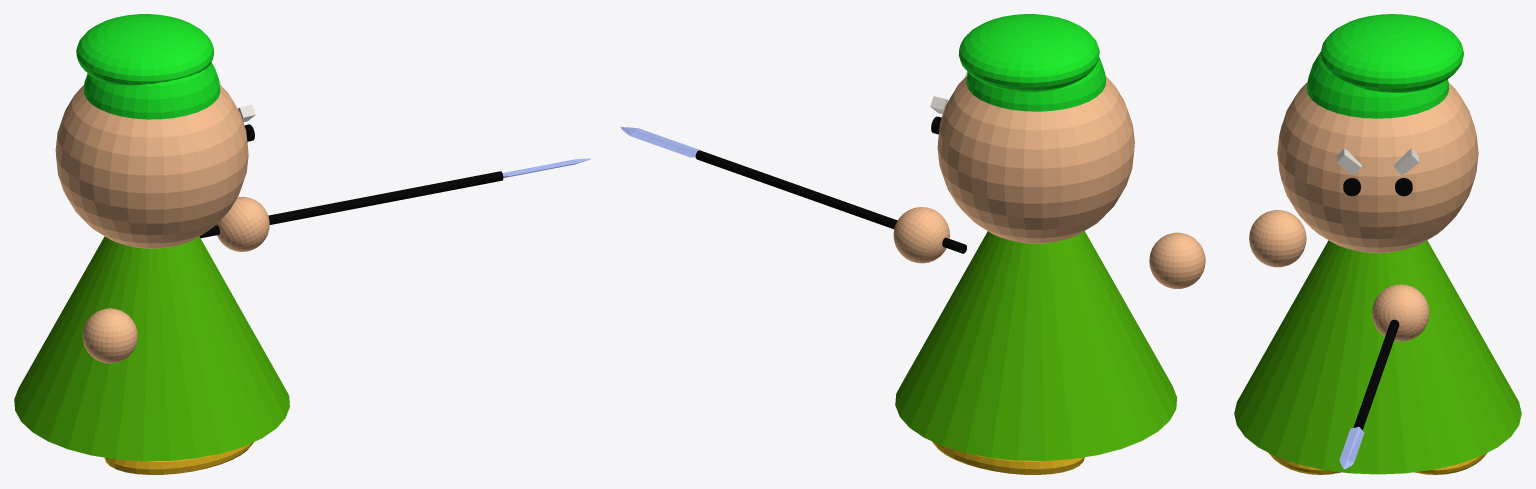
File: yarigrandfather.fbx
3 renders of one model, left to right at view 1: azimuth 30°, elevation 25°; view 2: azimuth 150°, elevation 25°; view 3: azimuth 270°, elevation 25°, orthographic. The views are drawn at different scales.
Visible parts, largest first — view 1: 円錐.017, 円柱, 円錐.007, 円錐.012, 円錐.011; view 2: 円錐.017, 円柱, 円錐.007, 円錐.012, 円錐.010; view 3: 円錐.017, 円錐.007, 円錐.012, 円柱, 円錐.010, 円錐.011.
Part boxes in pixels (bbox=[...]): 円錐.017: bbox=[14, 14, 289, 461]; 円柱: bbox=[199, 158, 591, 238]; 円錐.007: bbox=[82, 308, 137, 363]; 円錐.012: bbox=[215, 196, 269, 251]; 円錐.011: bbox=[104, 442, 253, 474]; 円錐.017: bbox=[895, 14, 1177, 460]; 円柱: bbox=[620, 127, 966, 253]; 円錐.007: bbox=[1149, 232, 1205, 288]; 円錐.012: bbox=[893, 207, 949, 263]; 円錐.010: bbox=[932, 441, 1084, 474]; 円錐.017: bbox=[1234, 14, 1521, 474]; 円錐.007: bbox=[1249, 210, 1306, 267]; 円錐.012: bbox=[1372, 284, 1429, 341]; 円柱: bbox=[1339, 319, 1399, 469]; 円錐.010: bbox=[1415, 453, 1486, 474]; 円錐.011: bbox=[1269, 453, 1340, 474].
Bounding box in the file's own units: 454 × 317 × 200.
